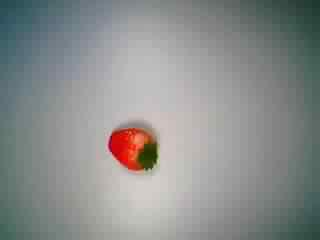strawberry: (98, 114, 166, 178)
